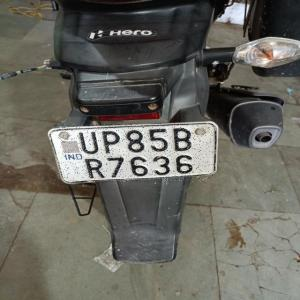Plate: (59, 124, 213, 182)
